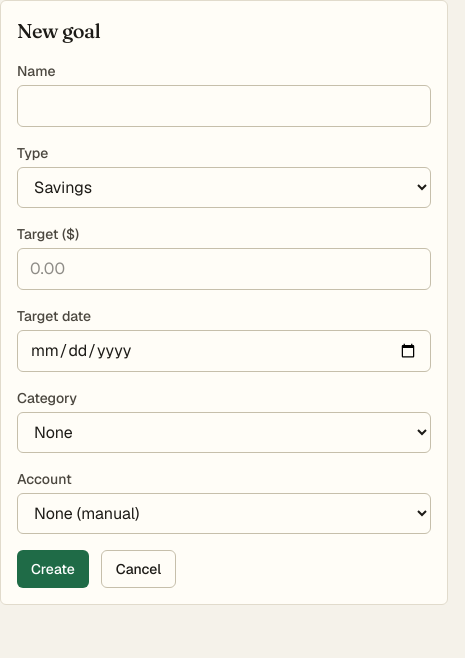
Scenario: GoalForm › shows a rejected save inline and as a toast
The width and height of the screenshot is (465, 658).
Type "Car" into the field labelled "Name" at [224, 106], box [17,85,431,127]
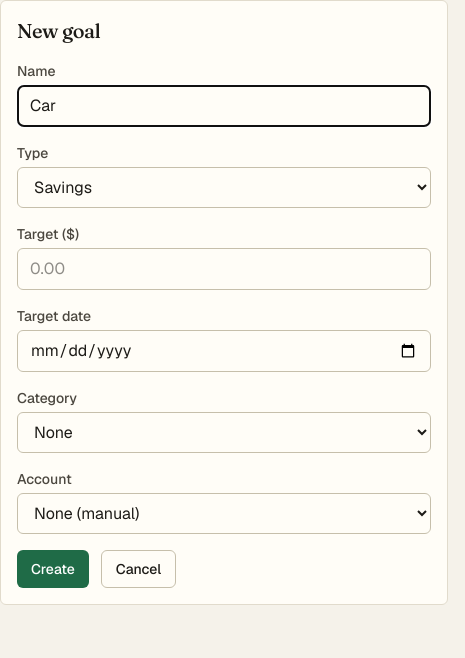
Type "10" into the field labelled "Target ($)" at [224, 269], box [17,248,431,290]
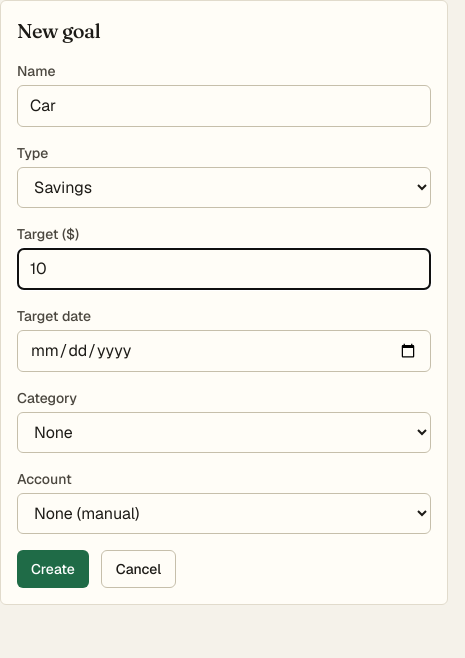
Click the button "Create" at [53, 569], box [17,550,89,588]
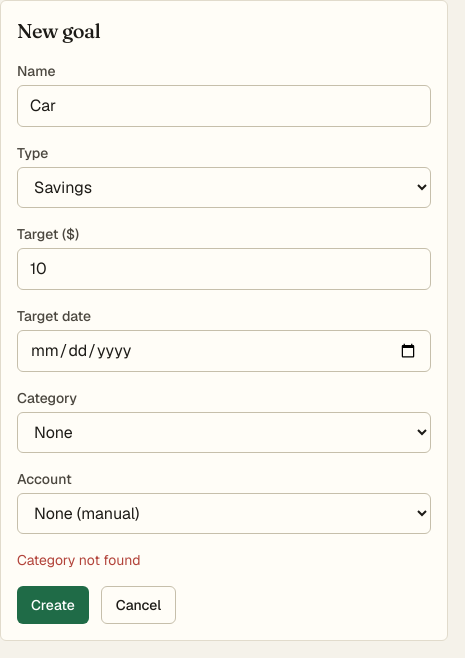
Expected: the text "Category not found" is shown, [17,551,140,569]
